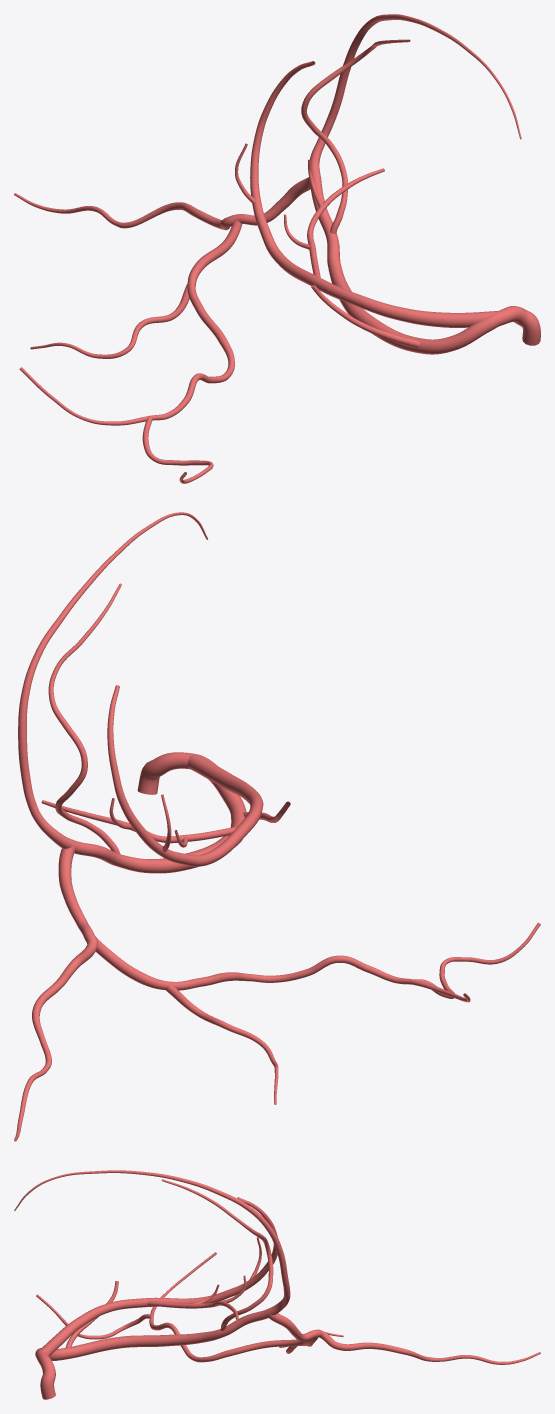
File: Posterior_cerebral_artery.r_BezierCurve.242.glb
3 views of the same model, one above another, from view 1: azimuth 30°, elevation 25°; view 2: azimuth 150°, elevation 25°; view 3: azimuth 270°, elevation 25° (orthographic). The views are drawn at different scales.
Parts seen in each view (by area): view 1: Posterior_cerebral_artery.r_BezierCurve.242; view 2: Posterior_cerebral_artery.r_BezierCurve.242; view 3: Posterior_cerebral_artery.r_BezierCurve.242.
Boxes of the visible parts, x1,y1,x2,y2 form: Posterior_cerebral_artery.r_BezierCurve.242: [14, 14, 540, 483]; Posterior_cerebral_artery.r_BezierCurve.242: [14, 512, 540, 1141]; Posterior_cerebral_artery.r_BezierCurve.242: [14, 1170, 540, 1399].
Size of the model in its own units: 0.0566 by 0.0467 by 0.0817.
